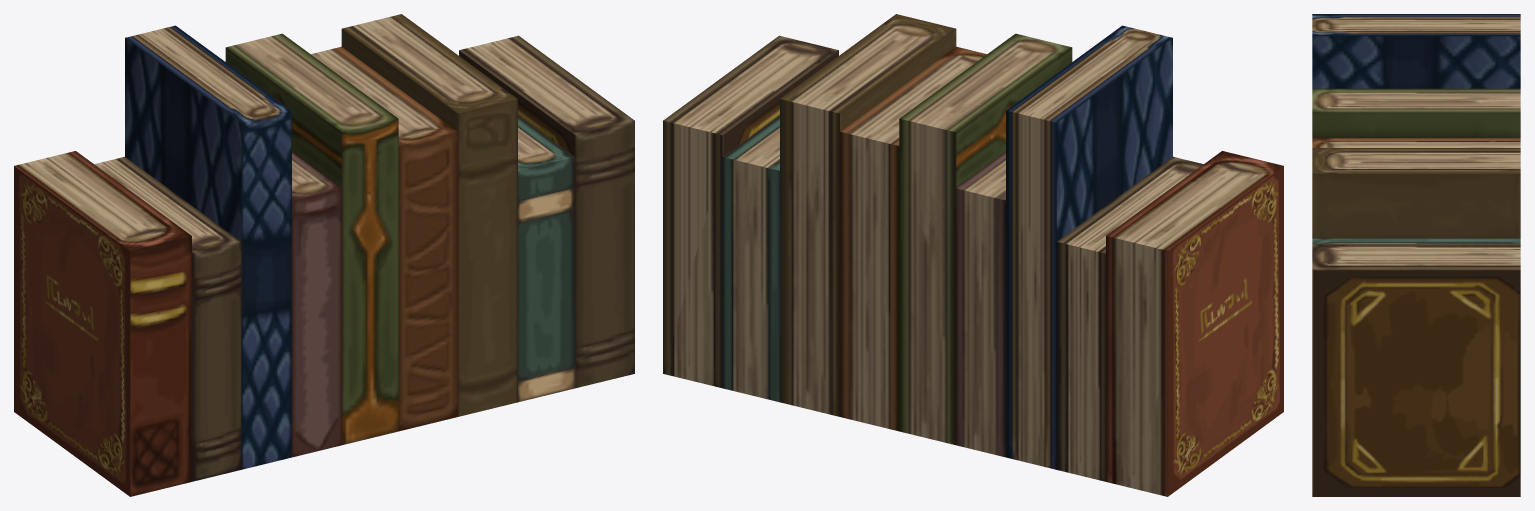
The model's file is SM_PROP_book_interior_03.fbx.
The picture shows the model from 3 angles, left to right: view 1: azimuth 30°, elevation 25°; view 2: azimuth 150°, elevation 25°; view 3: azimuth 270°, elevation 25°; orthographic projection. The views are drawn at different scales.
Parts seen in each view (by area): view 1: SM_PROP_book_interior_03; view 2: SM_PROP_book_interior_03; view 3: SM_PROP_book_interior_03.
Boxes of the visible parts, x1,y1,x2,y2 form: SM_PROP_book_interior_03: (14, 14, 634, 496); SM_PROP_book_interior_03: (663, 14, 1283, 496); SM_PROP_book_interior_03: (1312, 14, 1520, 496).
Bounding box in the file's own units: 52.15 × 34.26 × 20.79.
